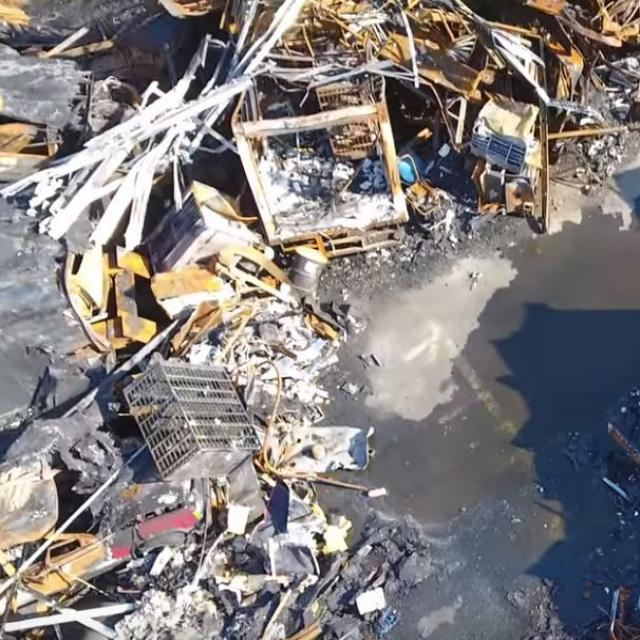collapsed_building: (0, 3, 597, 377)
